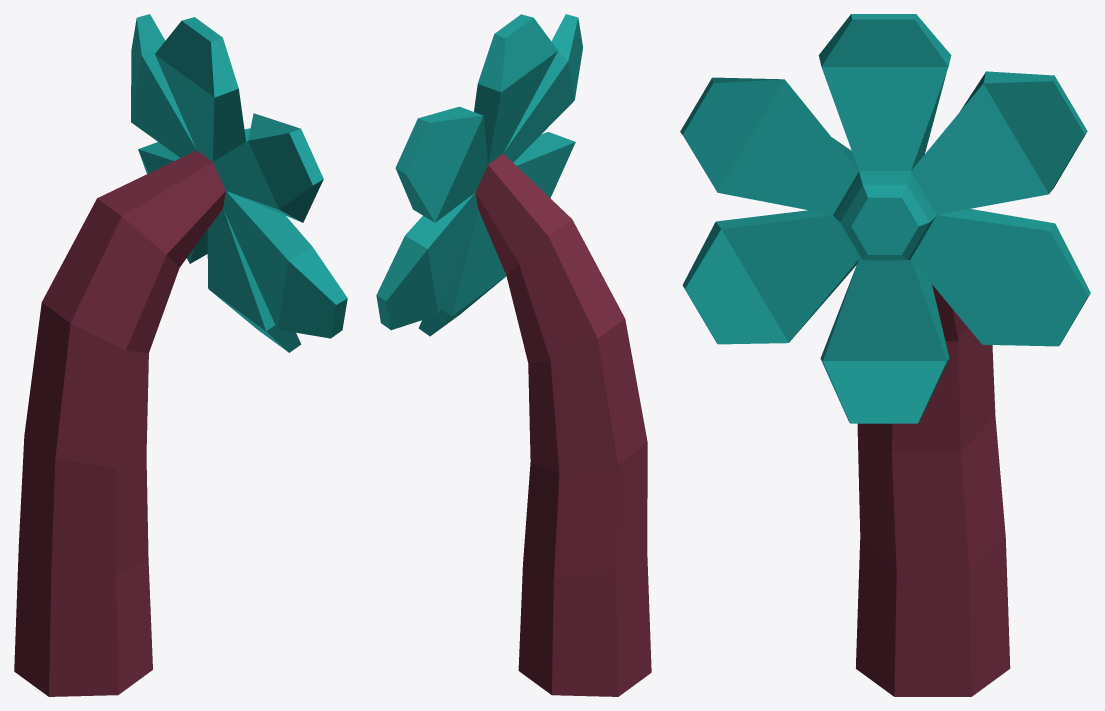
Rendered from Mo_ForestFlower01.fbx.
The picture shows the model from 3 angles, left to right: view 1: azimuth 30°, elevation 25°; view 2: azimuth 150°, elevation 25°; view 3: azimuth 270°, elevation 25°; orthographic projection. The views are drawn at different scales.
Visible parts, largest first — view 1: Cylinder; view 2: Cylinder; view 3: Cylinder.
Part boxes in pixels (left/top/right/bottom): Cylinder: left=14, top=14, right=347, bottom=696; Cylinder: left=376, top=14, right=651, bottom=696; Cylinder: left=680, top=14, right=1090, bottom=696.
Size of the model in its own units: 14.1 by 36.46 by 19.2.
